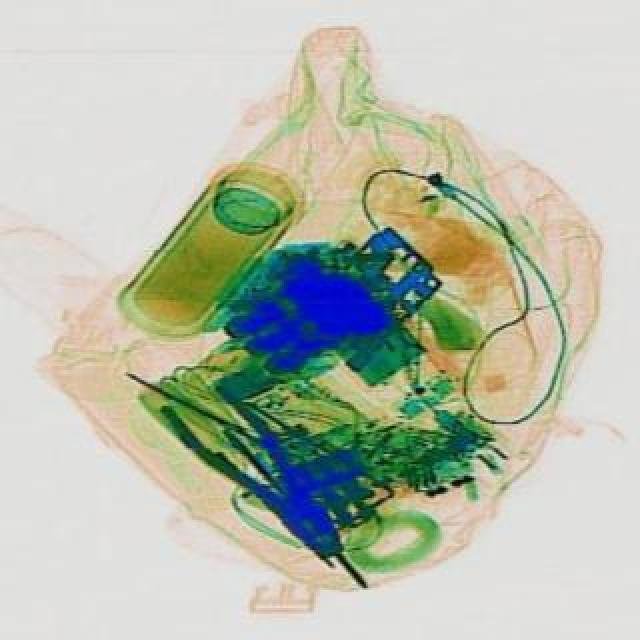wrench: (152, 366, 364, 578)
